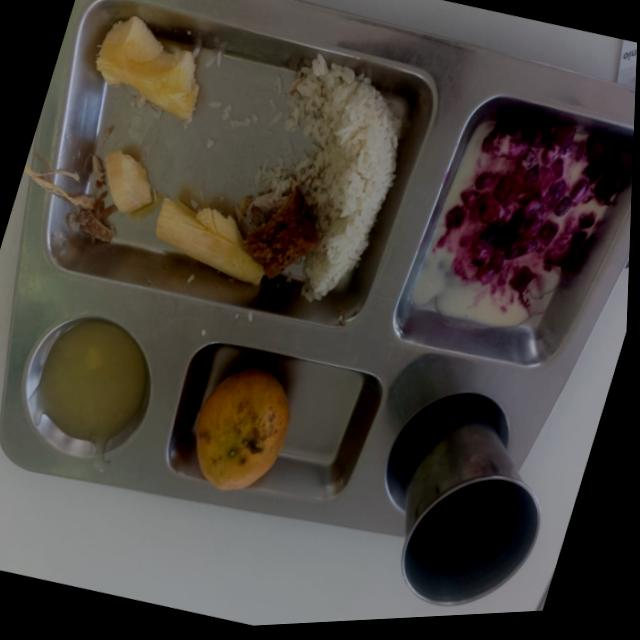arroz: (285, 53, 401, 299), (244, 172, 289, 221), (265, 213, 266, 214), (280, 208, 281, 209)
mandarina: (196, 366, 289, 488)
pescado frito: (24, 165, 112, 240), (244, 211, 317, 275), (197, 212, 199, 215), (102, 193, 105, 195), (277, 269, 278, 272)
yuca: (103, 150, 263, 283), (96, 15, 197, 119), (94, 175, 95, 176)
